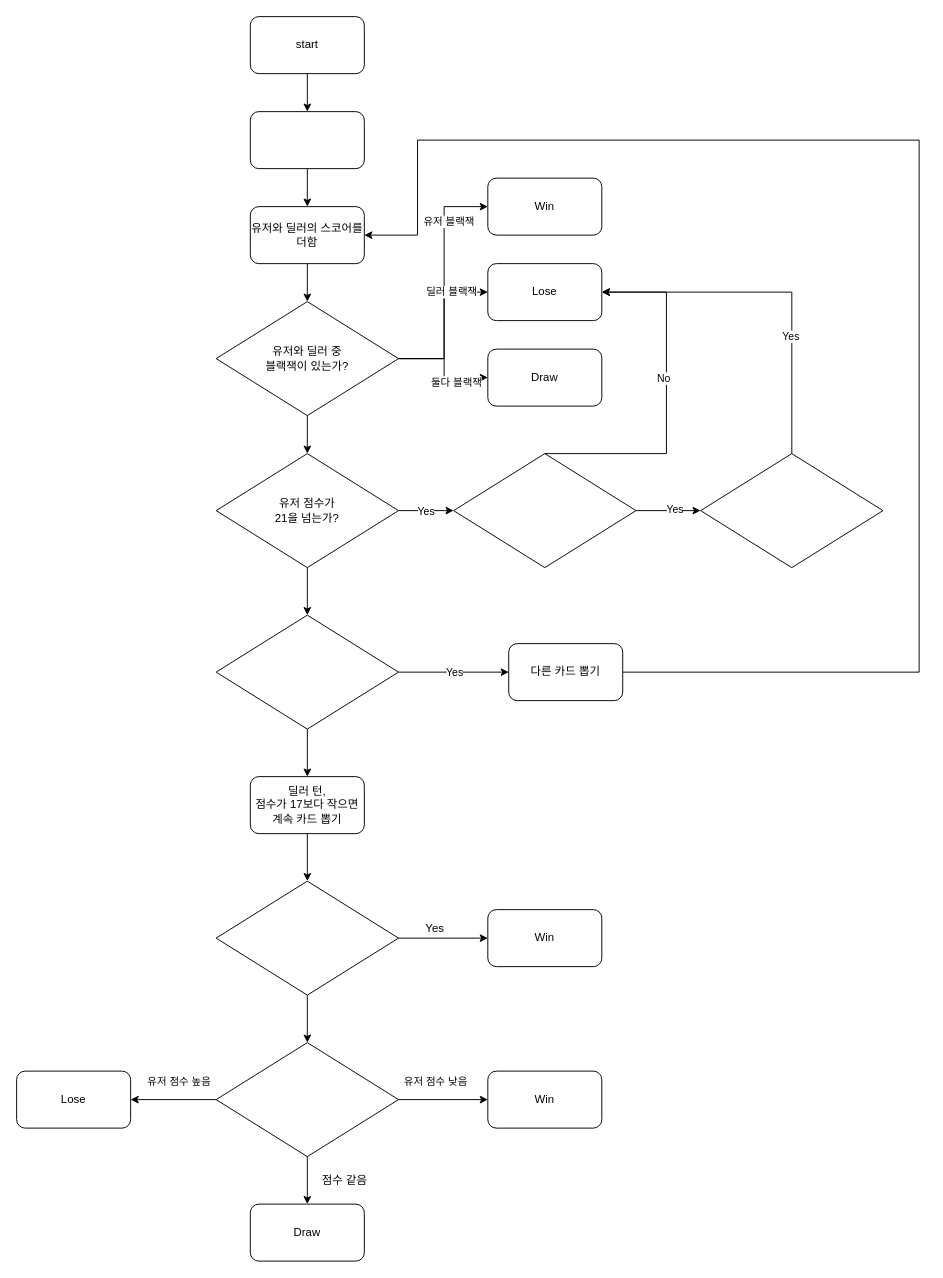
Some shapes in this 943 by 1278 pixel diagram are drawn without their labels. Here are the shapes that lost their labels. From the top down, the box of each, then its label:
(249, 111, 364, 169): 유저와 딜러(pc)가 랜덤 카드 2장씩 얻음
(453, 453, 636, 568): Ace가 있는가?
(700, 453, 883, 568): 11대신 1을 넣어도 21을 넘는가?
(215, 614, 399, 729): 유저가 다른 카드를 원하는가?
(215, 880, 399, 995): 딜러 점수가 21을 넘는가?
(215, 1042, 399, 1157): 유저와 딜러 점수를 비교
